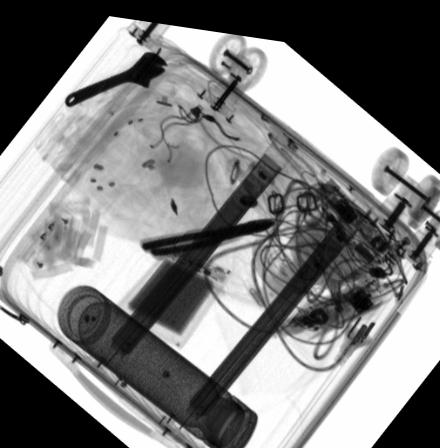Pliers: (139, 210, 277, 254)
Powerbank: (112, 235, 231, 343)
Wrench: (62, 44, 169, 105)
